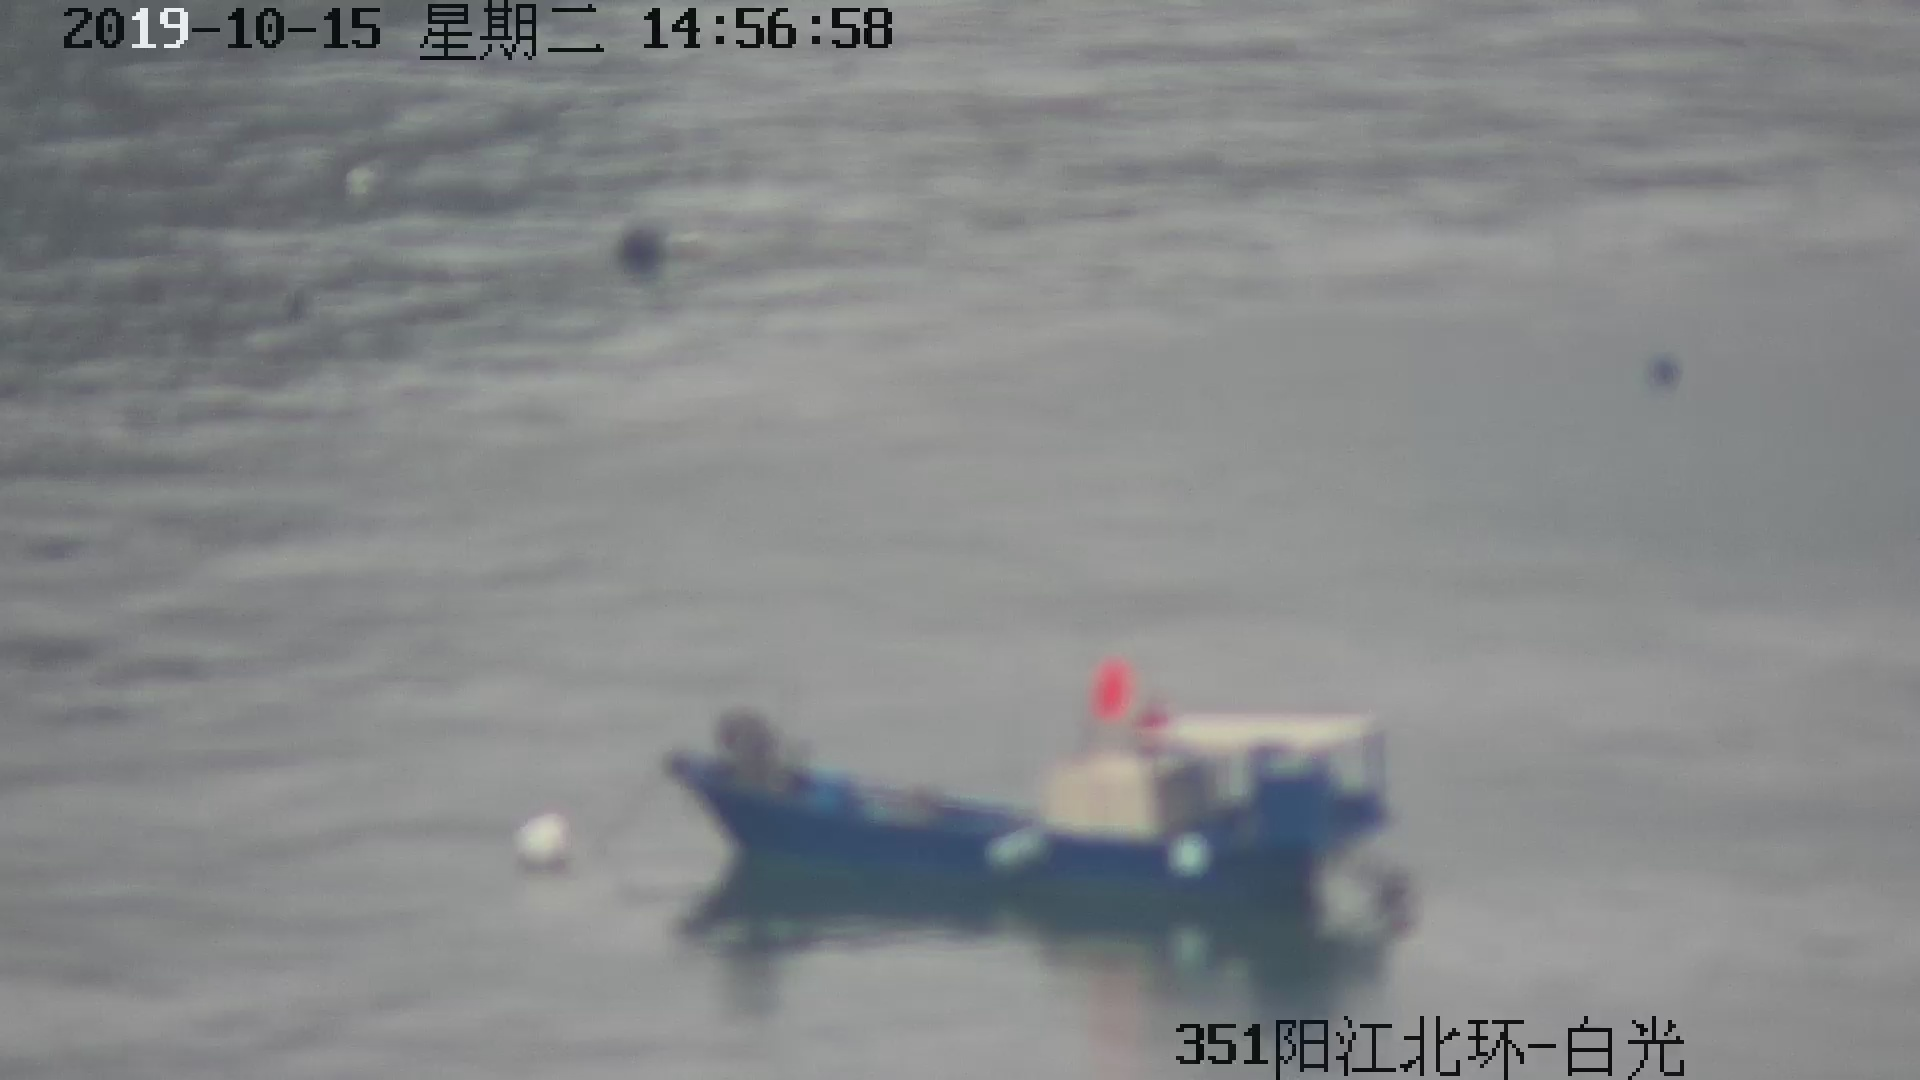ship: (647, 641, 1428, 955)
